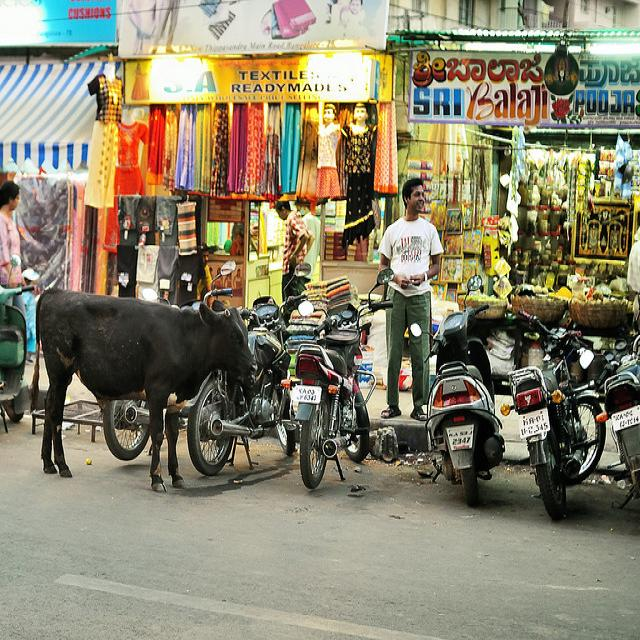motor: (101, 259, 244, 464), (501, 302, 608, 522), (409, 272, 510, 500), (295, 269, 396, 490), (242, 291, 312, 463), (599, 335, 640, 502), (0, 254, 34, 434)
